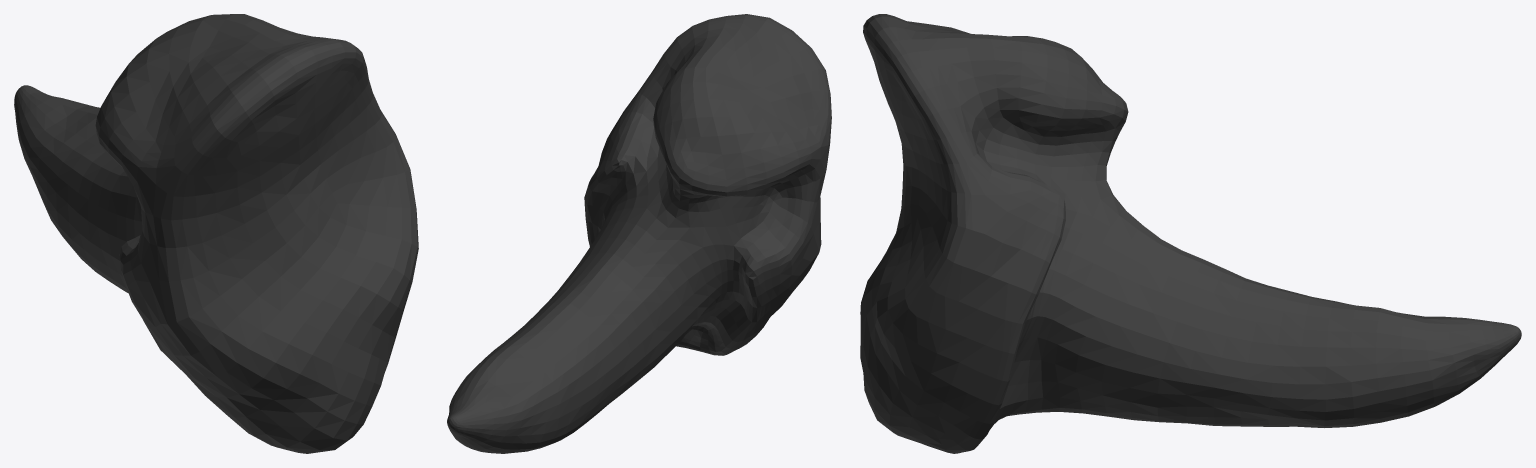
Rendered from Distal_phalange_5.glb.
3 renders of one model, left to right at view 1: azimuth 30°, elevation 25°; view 2: azimuth 150°, elevation 25°; view 3: azimuth 270°, elevation 25°, orthographic. The views are drawn at different scales.
Visible parts, largest first — view 1: Distal_phalange_5; view 2: Distal_phalange_5; view 3: Distal_phalange_5.
Part boxes in pixels (left/top/right/bottom): Distal_phalange_5: left=14, top=14, right=418, bottom=453; Distal_phalange_5: left=447, top=14, right=831, bottom=453; Distal_phalange_5: left=860, top=14, right=1521, bottom=453.
Bounding box in the file's own units: 0.0962 × 0.1423 × 0.2119.
Materials: 1 (1 with a texture image).
